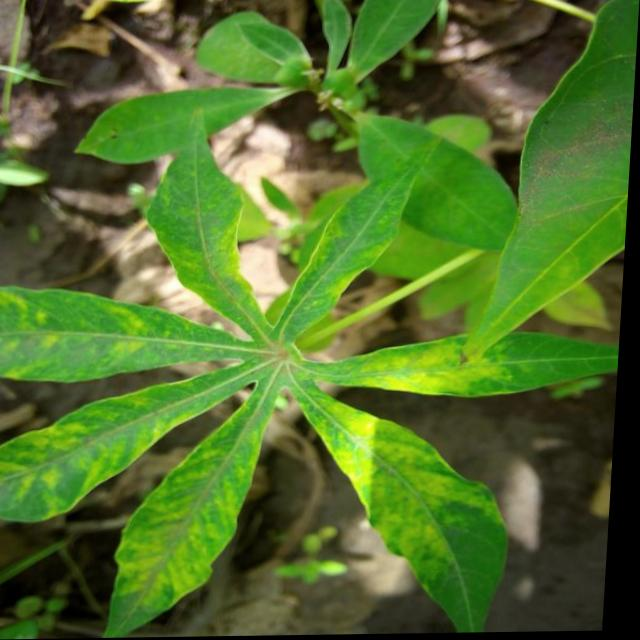Mosaico: (49, 188, 461, 599)
